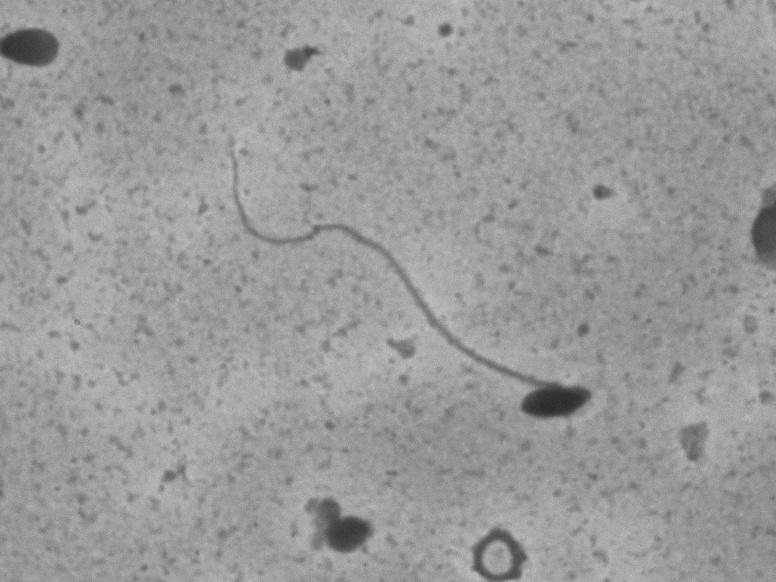Abnormal: (157, 160, 647, 429)
